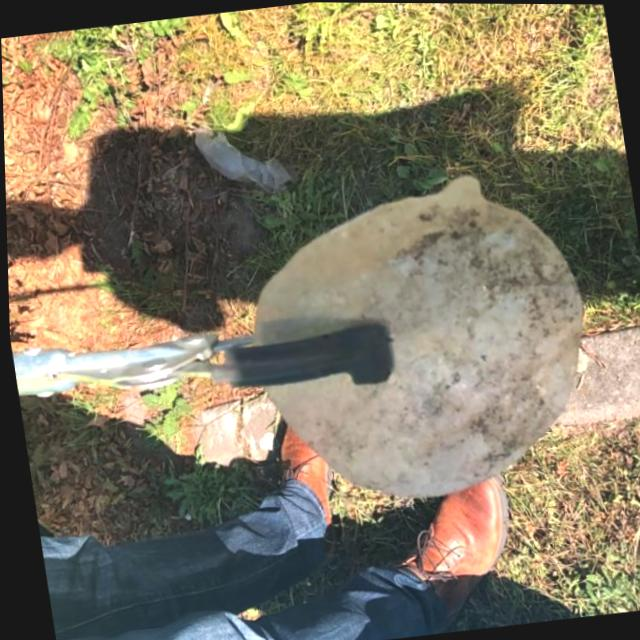Paper: (222, 156, 612, 522)
